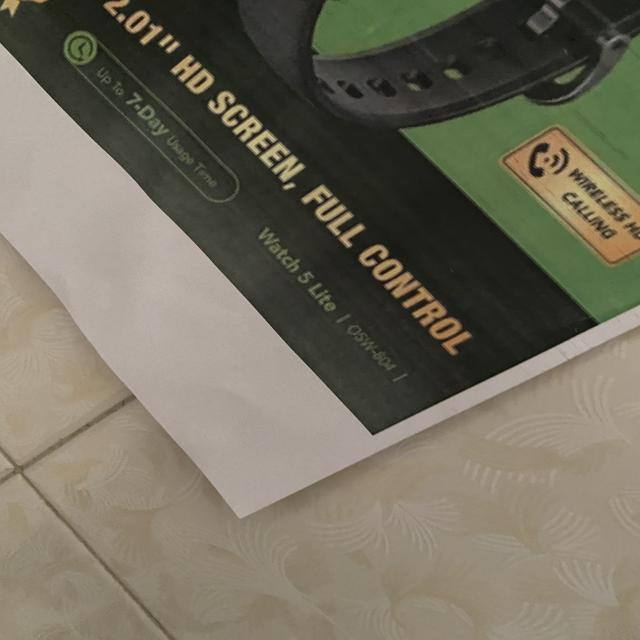Watch 5 Lite OSW-804: (250, 220, 423, 389)
